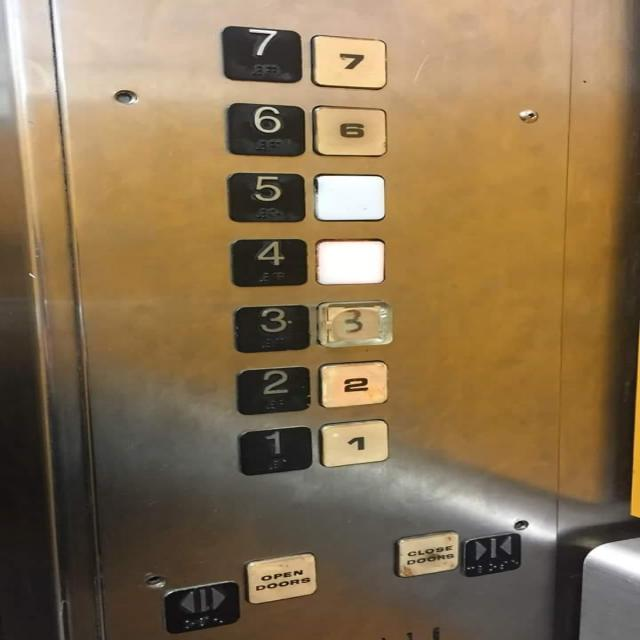1: (234, 423, 314, 477), (318, 417, 390, 469)
2: (234, 364, 311, 416), (316, 359, 388, 409)
3: (231, 302, 310, 354), (314, 298, 394, 348)
4: (228, 237, 308, 289)
5: (225, 171, 306, 224)
6: (224, 100, 307, 158), (311, 102, 388, 156)
7: (220, 22, 302, 84), (308, 33, 388, 90)
close: (461, 531, 522, 577)
empty: (314, 172, 388, 221), (314, 239, 388, 284)
open: (160, 578, 242, 636)
text: (244, 551, 318, 604), (391, 528, 461, 578)
